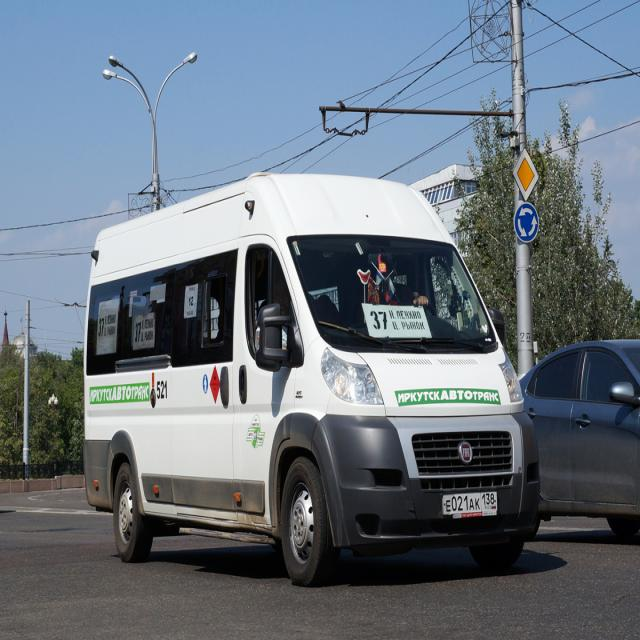number-of-bus: (369, 310, 391, 333)
